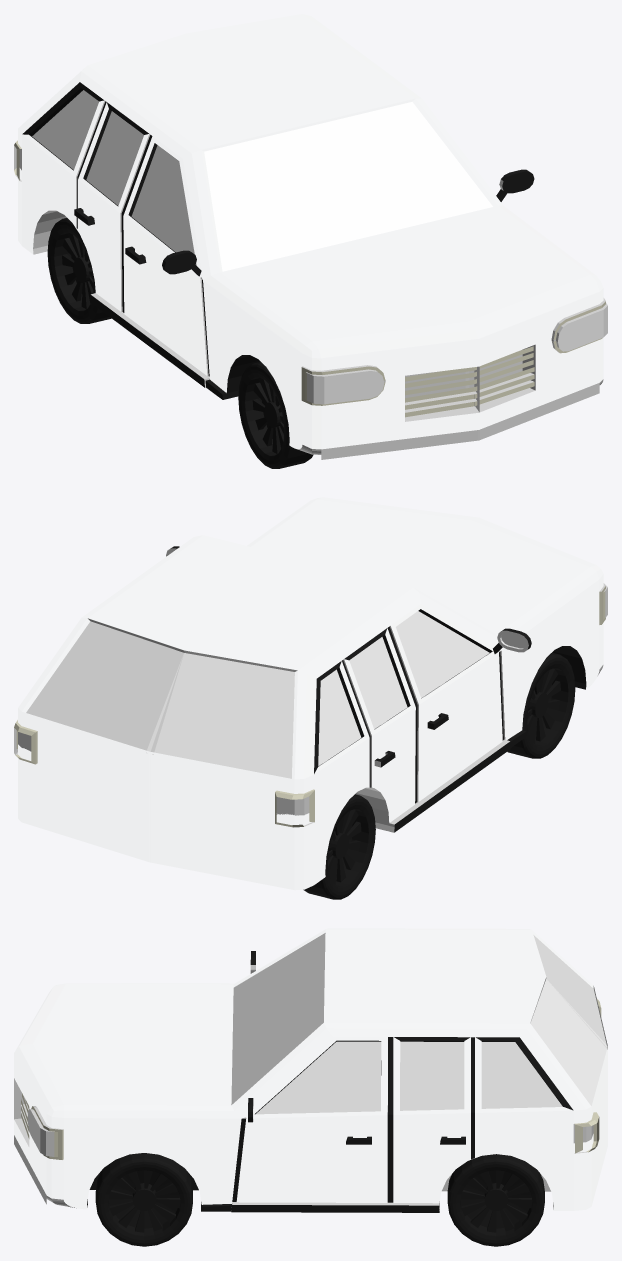
The model's file is whitecar.glb.
3 renders of one model, top to bottom at view 1: azimuth 30°, elevation 25°; view 2: azimuth 150°, elevation 25°; view 3: azimuth 270°, elevation 25°, orthographic. The views are drawn at different scales.
Parts seen in each view (by area): view 1: Cube.044, Cube.046, Unhide.008, Unhide.009, Cube.048, Cube.045, Cube.047; view 2: Cube.044, Cube.046, Unhide.009, Unhide.008, Cube.045, Cube.048; view 3: Cube.044, Cube.046, Unhide.009, Cube.045, Unhide.008, Cube.048.
Boxes of the visible parts, bbox=[...] form: Cube.044: bbox=[18, 14, 603, 449]; Cube.046: bbox=[14, 90, 607, 404]; Unhide.008: bbox=[15, 100, 607, 459]; Unhide.009: bbox=[47, 218, 313, 468]; Cube.048: bbox=[14, 140, 605, 417]; Cube.045: bbox=[22, 82, 506, 399]; Cube.047: bbox=[162, 169, 534, 274]; Cube.044: bbox=[18, 497, 603, 890]; Cube.046: bbox=[14, 587, 607, 778]; Unhide.009: bbox=[303, 646, 586, 899]; Unhide.008: bbox=[14, 548, 607, 832]; Cube.045: bbox=[314, 609, 526, 832]; Cube.048: bbox=[14, 586, 605, 827]; Cube.044: bbox=[14, 928, 607, 1210]; Cube.046: bbox=[27, 933, 607, 1156]; Unhide.009: bbox=[68, 1153, 544, 1246]; Cube.045: bbox=[201, 1037, 573, 1212]; Unhide.008: bbox=[14, 965, 607, 1210]; Cube.048: bbox=[21, 999, 601, 1159].
Bounding box in the file's own units: 5.76 × 3.5 × 8.98.
